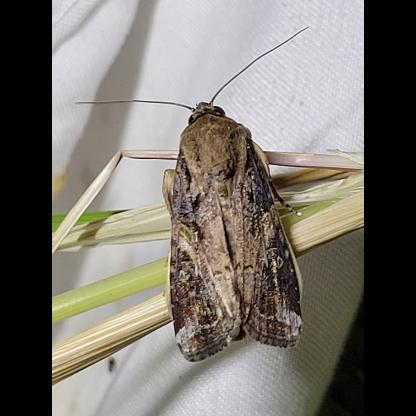Fall Armyworm Moth: (73, 24, 313, 366)
